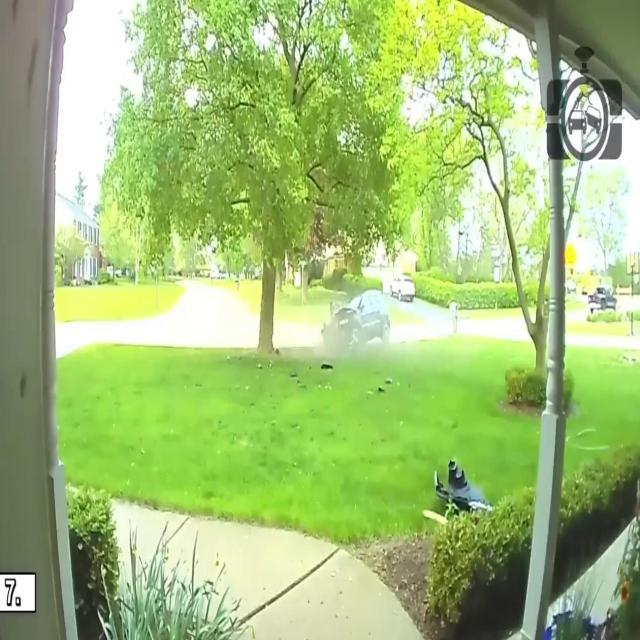accident: (317, 285, 395, 355)
